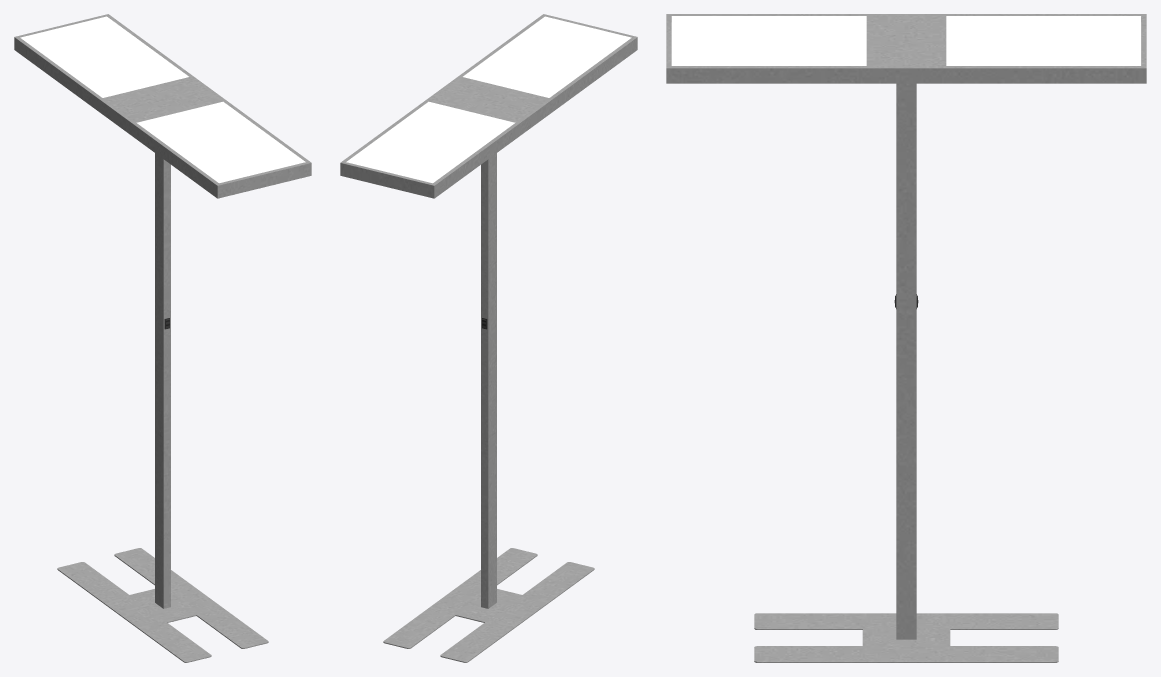
The model's file is floor-lamp-office.glb.
3 views of the same model, side by side, from view 1: azimuth 30°, elevation 25°; view 2: azimuth 150°, elevation 25°; view 3: azimuth 270°, elevation 25° (orthographic). The views are drawn at different scales.
Visible parts, largest first — view 1: lamp_scaffold_3, emission-indirect_2; view 2: lamp_scaffold_3, emission-indirect_2; view 3: lamp_scaffold_3, emission-indirect_2.
Part boxes in pixels (x1=…): lamp_scaffold_3: x1=14, y1=14, x2=311, y2=662; emission-indirect_2: x1=20, y1=16, x2=305, y2=183; lamp_scaffold_3: x1=340, y1=14, x2=637, y2=662; emission-indirect_2: x1=346, y1=16, x2=631, y2=183; lamp_scaffold_3: x1=666, y1=14, x2=1146, y2=662; emission-indirect_2: x1=671, y1=16, x2=1141, y2=65.
Bounding box in the file's own units: 0.3703 × 1.9 × 1.38.
Materials: 4 (1 with a texture image).
